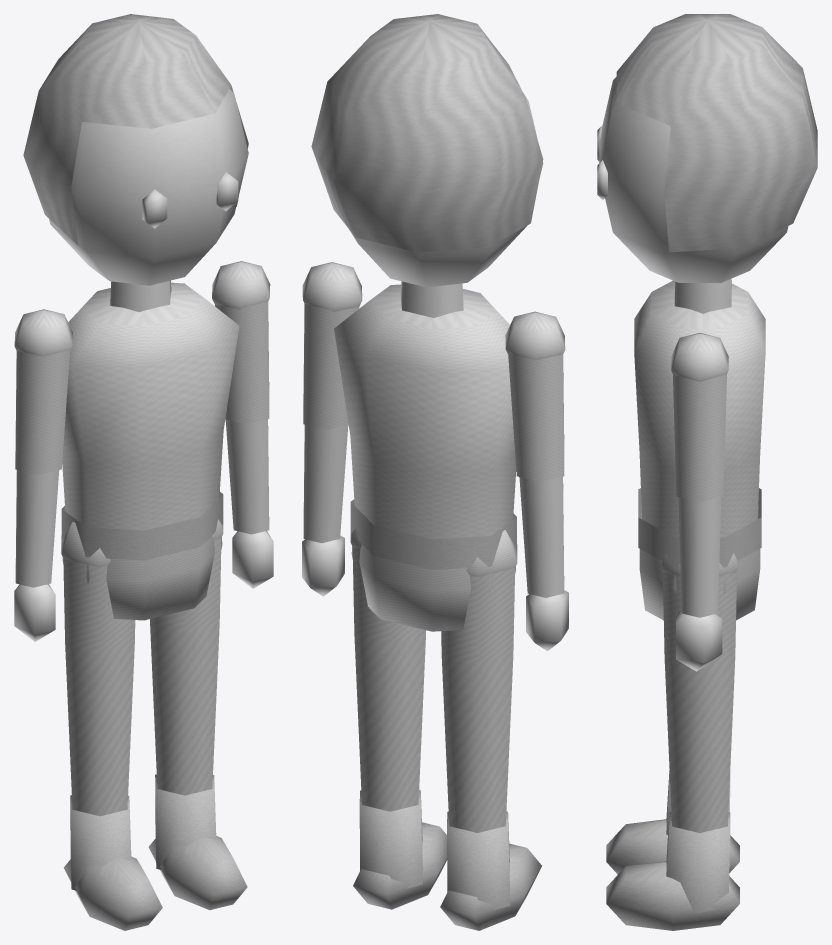
Rendered from char_base_b_lod2.glb.
3 renders of one model, left to right at view 1: azimuth 30°, elevation 25°; view 2: azimuth 150°, elevation 25°; view 3: azimuth 270°, elevation 25°, orthographic. The views are drawn at different scales.
Parts seen in each view (by area): view 1: core, leg_r, leg_l, arm_r, arm_l; view 2: core, leg_r, leg_l, arm_r, arm_l; view 3: core, leg_l, arm_l, leg_r.
Boxes of the visible parts, left/top/right/bottom form: core: left=23, top=14, right=248, bottom=620; leg_r: left=61, top=520, right=162, bottom=930; leg_l: left=148, top=519, right=247, bottom=910; arm_r: left=14, top=309, right=72, bottom=641; arm_l: left=212, top=261, right=273, bottom=588; core: left=311, top=14, right=543, bottom=631; leg_r: left=440, top=528, right=541, bottom=930; leg_l: left=350, top=528, right=447, bottom=909; arm_r: left=505, top=311, right=568, bottom=651; arm_l: left=302, top=262, right=362, bottom=596; core: left=597, top=14, right=817, bottom=620; leg_l: left=606, top=553, right=739, bottom=930; arm_l: left=671, top=333, right=728, bottom=671; leg_r: left=606, top=770, right=739, bottom=874.
Bounding box in the file's own units: 0.4455 × 1.46 × 0.3278.
Materials: 6 (6 with a texture image).
